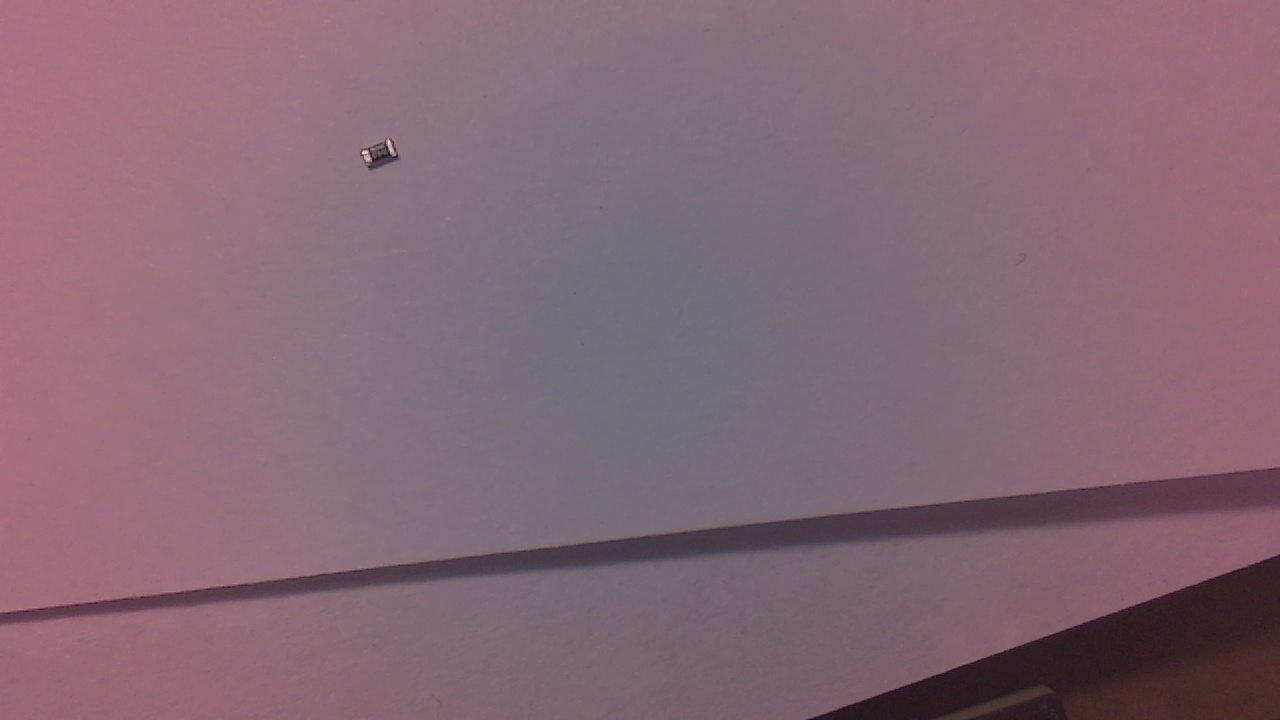Resistor: (365, 143, 405, 176)
